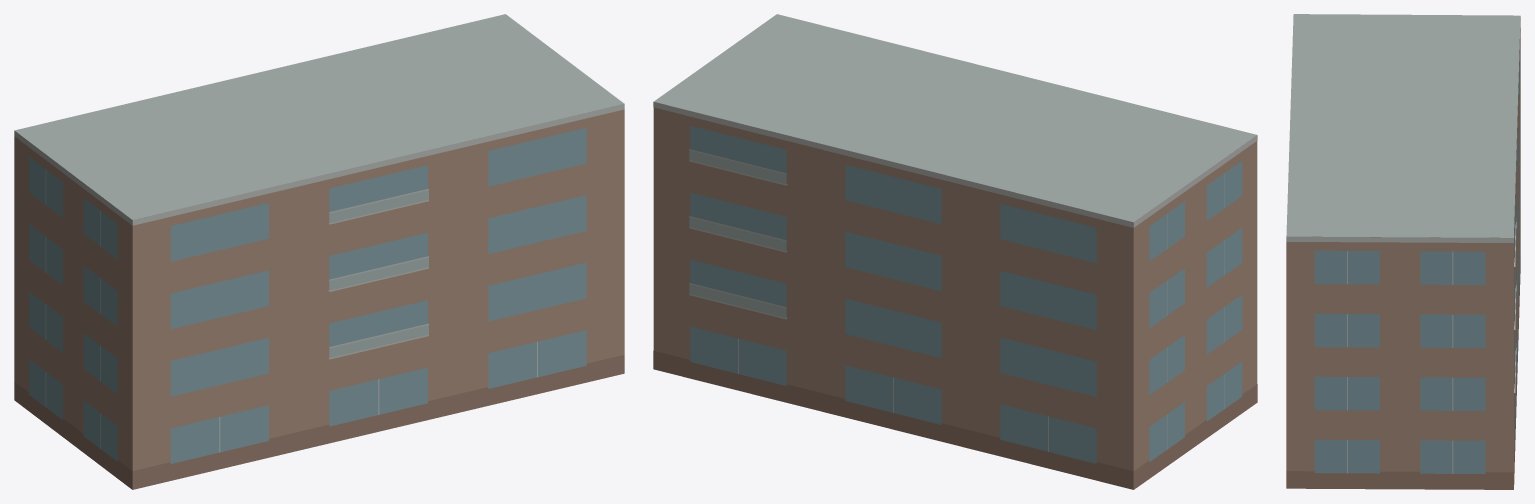
File: survey-upis-32832994.glb
3 renders of one model, left to right at view 1: azimuth 30°, elevation 25°; view 2: azimuth 150°, elevation 25°; view 3: azimuth 270°, elevation 25°, orthographic. The views are drawn at different scales.
Visible parts, largest first — view 1: survey-upis-32832994.tmp; view 2: survey-upis-32832994.tmp; view 3: survey-upis-32832994.tmp.
Boxes of the visible parts, x1,y1,x2,y2 form: survey-upis-32832994.tmp: [14, 14, 624, 489]; survey-upis-32832994.tmp: [653, 14, 1257, 489]; survey-upis-32832994.tmp: [1286, 14, 1520, 489].
Size of the model in its own units: 22.3 by 11.7 by 9.86.
